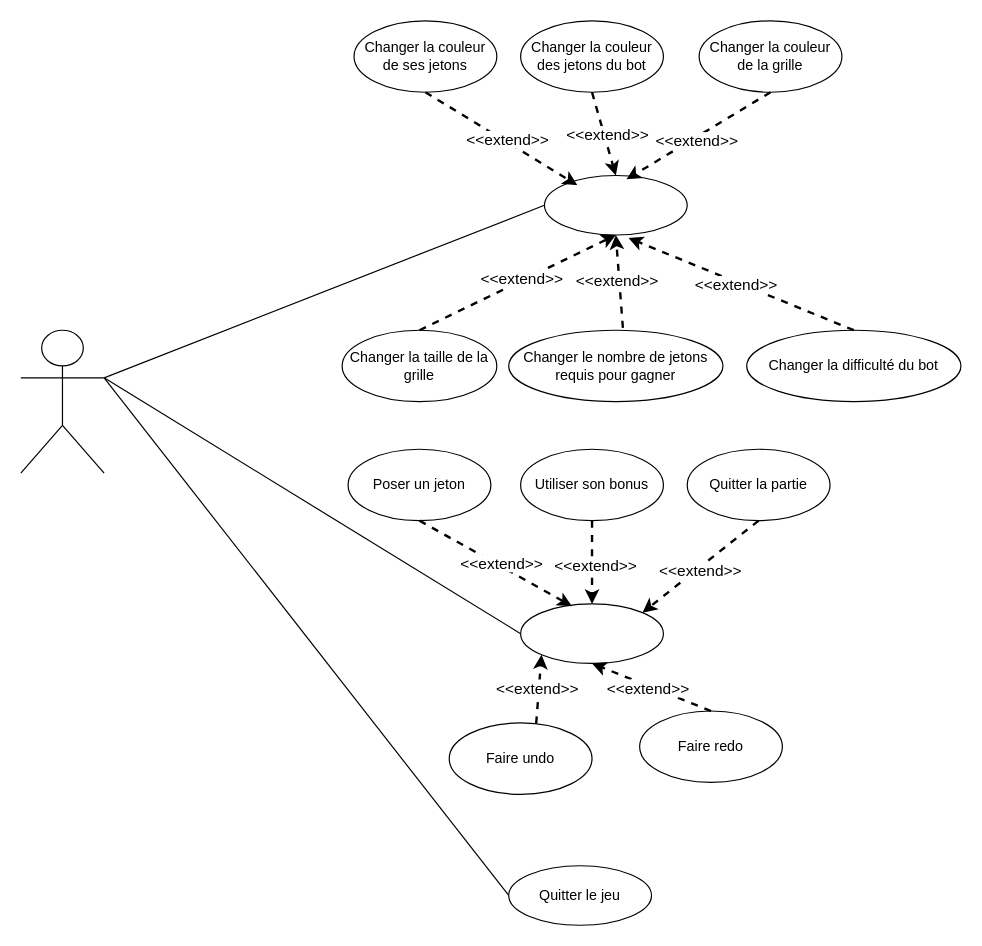
This 982x946 diagram has some shape labels left out. Here are the shapes that lost their labels. From the top down, the centre of each, then its label:
At (615,204): "Aller dans les paramètres".
At (62,401): "Joueur".
At (591,633): "Lancer une partie".
